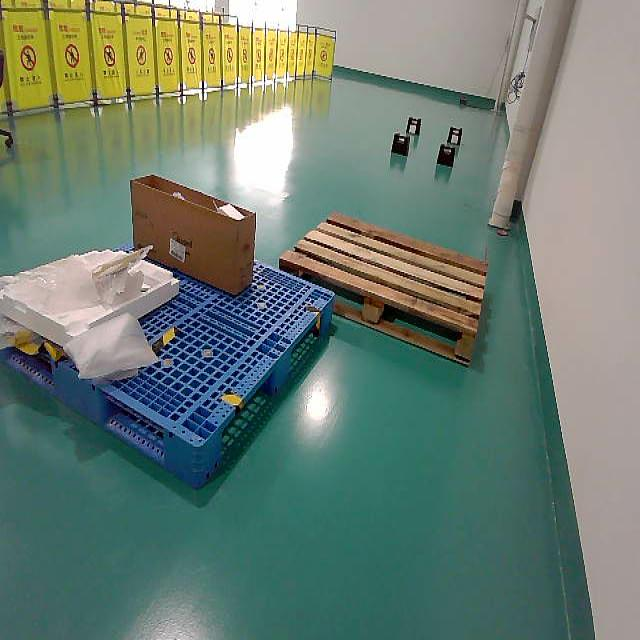euro: (280, 213, 487, 363)
